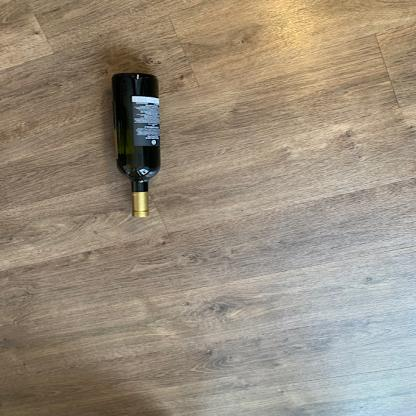trash: (107, 70, 160, 219)
